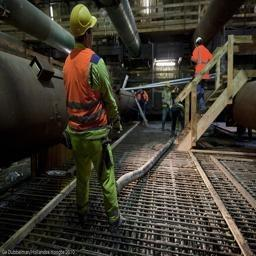hat: (63, 1, 99, 48), (188, 35, 208, 47), (165, 83, 174, 93)
vest: (58, 44, 114, 146), (190, 46, 216, 77), (136, 93, 153, 107), (163, 89, 174, 110)
